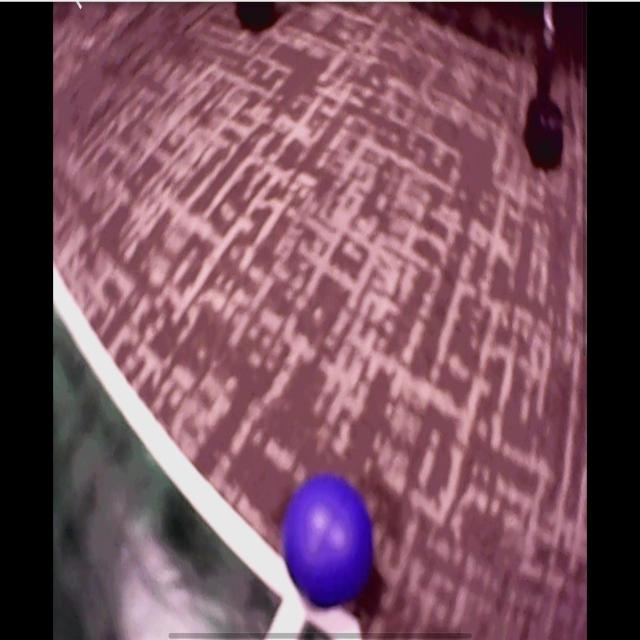ball: (284, 474, 375, 609)
